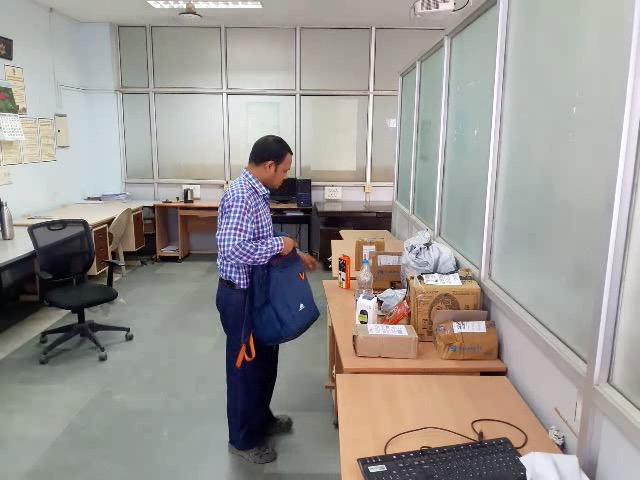shoplifting: (182, 219, 385, 356)
